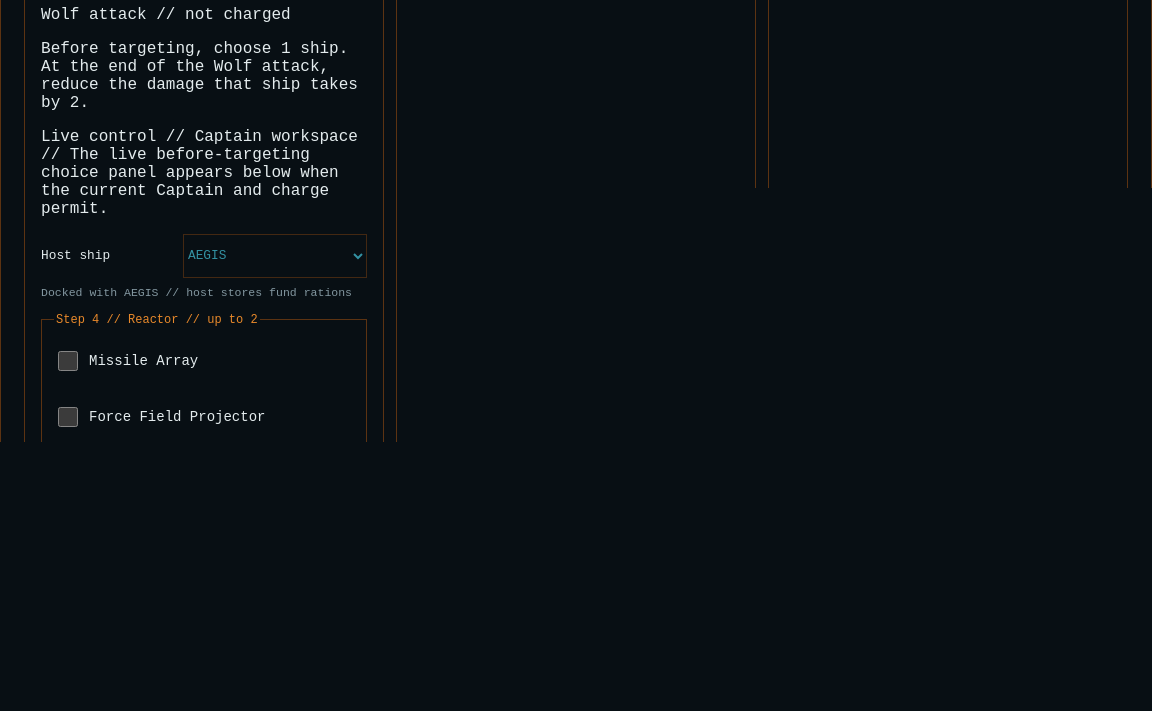
charges the canonical Missile Array id and renders only authoritative charge state
(page scrolled)
Click the checkbox labelled "Missile Array".
click(68, 361)  # box [58,351,78,371]
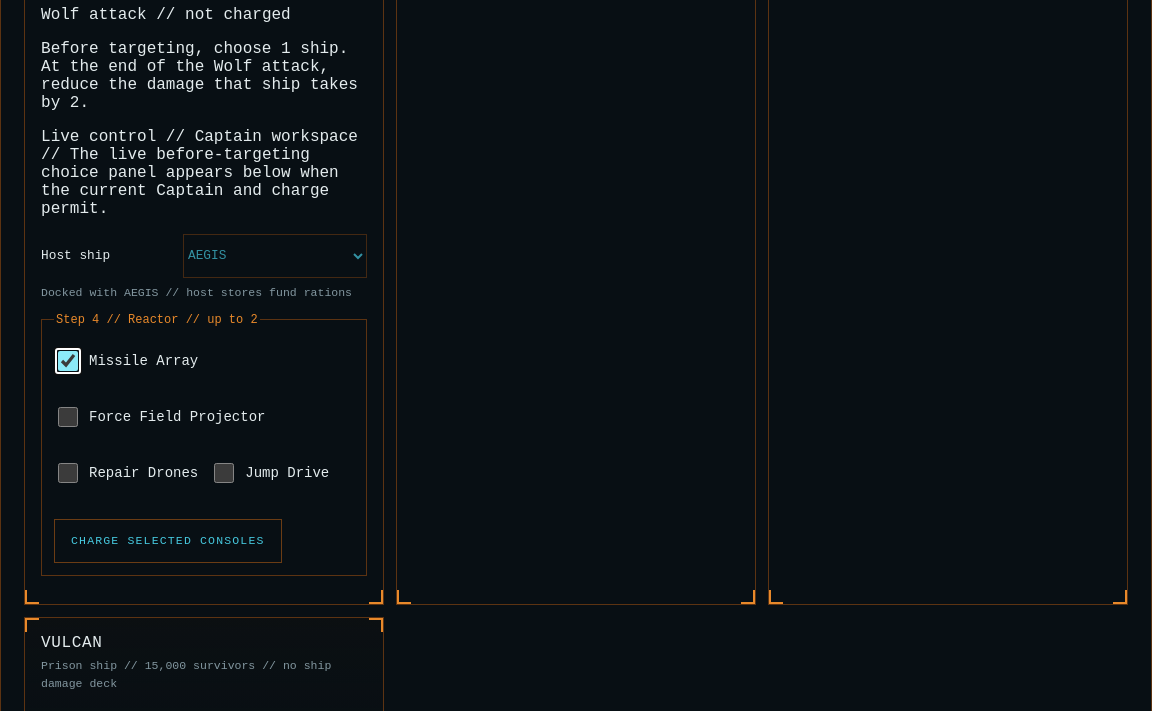
Click the button "Charge selected consoles".
click(168, 541)  # box [54,519,282,563]
(page scrolled)
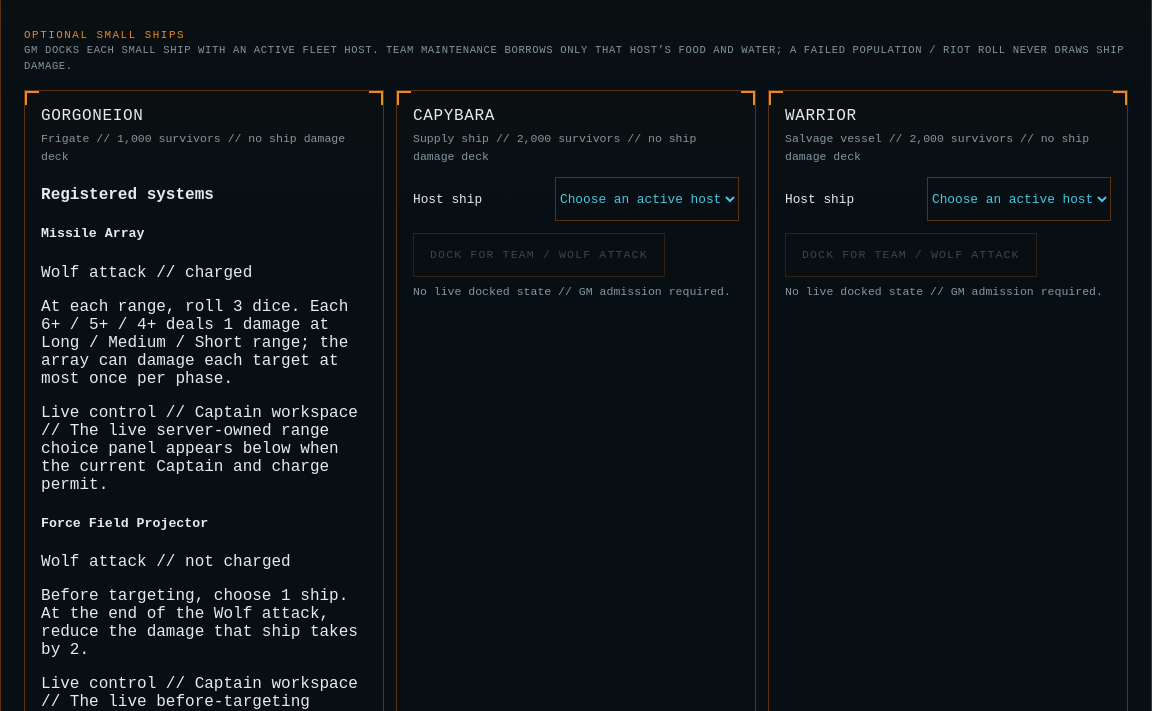
Now the element named "Missile Array system // live-below" shows "Wolf attack // charged", box [41,226,367,494]
